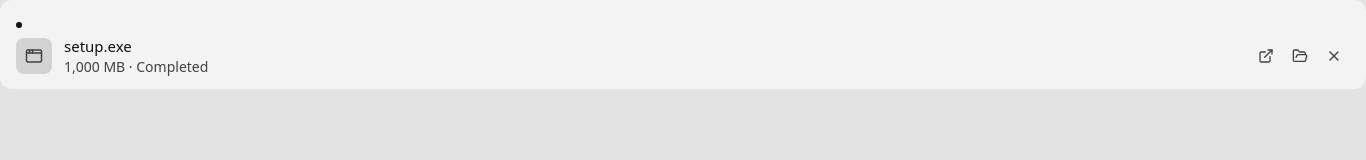
Test: DownloadRow › does not run a program on a double click on its button
Double-click the button named "Open": (1266, 56) [1250,40,1282,72]
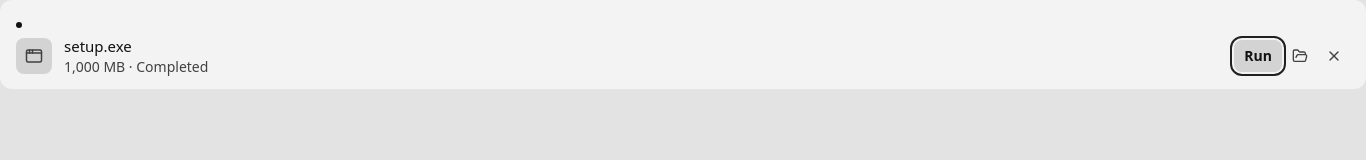
Expected: the button "Run" is shown, [1234,40,1282,72]
